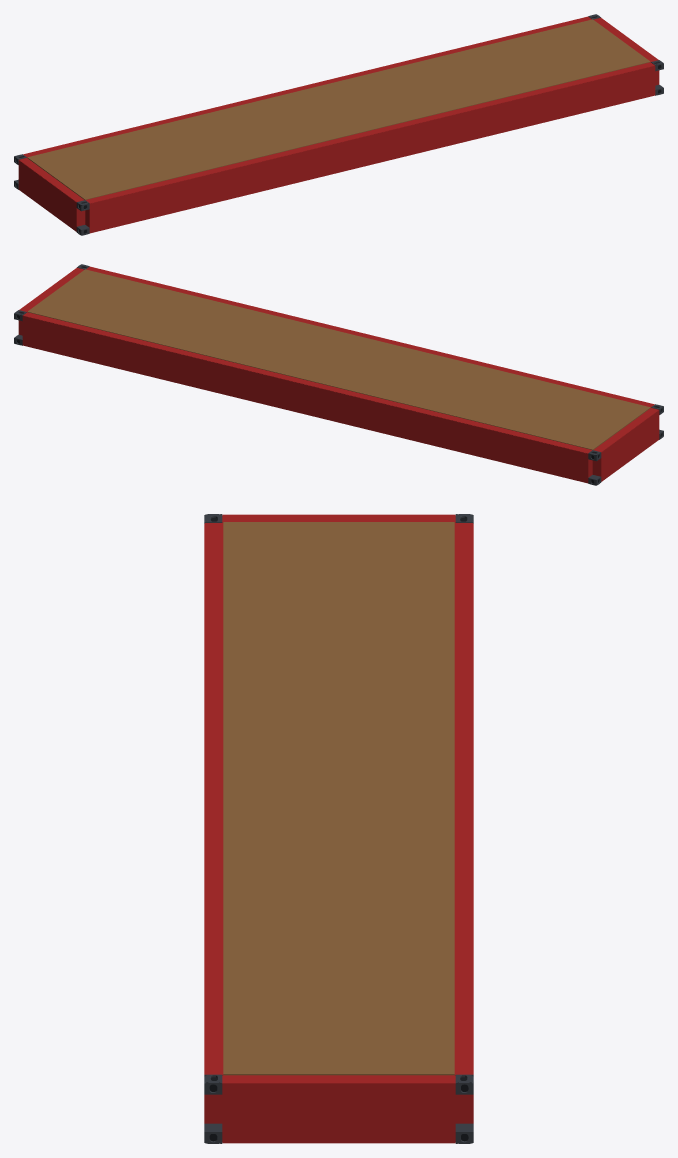
Rendered from iso_40ft_pl_49p0.obj.
The picture shows the model from 3 angles, top to bottom: view 1: azimuth 30°, elevation 25°; view 2: azimuth 150°, elevation 25°; view 3: azimuth 270°, elevation 25°; orthographic projection. The views are drawn at different scales.
Parts seen in each view (by area): view 1: 03_Marine_Wood_Floor, 02_Platform_Girders, 01_ISO_Corner_Castings_Hollow3D; view 2: 03_Marine_Wood_Floor, 02_Platform_Girders, 01_ISO_Corner_Castings_Hollow3D; view 3: 03_Marine_Wood_Floor, 02_Platform_Girders, 01_ISO_Corner_Castings_Hollow3D.
Boxes of the visible parts, x1,y1,x2,y2 form: 03_Marine_Wood_Floor: (27, 19, 650, 199); 02_Platform_Girders: (18, 16, 659, 233); 01_ISO_Corner_Castings_Hollow3D: (14, 14, 663, 235); 03_Marine_Wood_Floor: (27, 269, 650, 449); 02_Platform_Girders: (18, 266, 659, 483); 01_ISO_Corner_Castings_Hollow3D: (14, 264, 663, 485); 03_Marine_Wood_Floor: (223, 522, 454, 1075); 02_Platform_Girders: (204, 514, 473, 1143); 01_ISO_Corner_Castings_Hollow3D: (204, 514, 473, 1143).
Bounding box in the file's own units: 12.19 × 0.615 × 2.44.
